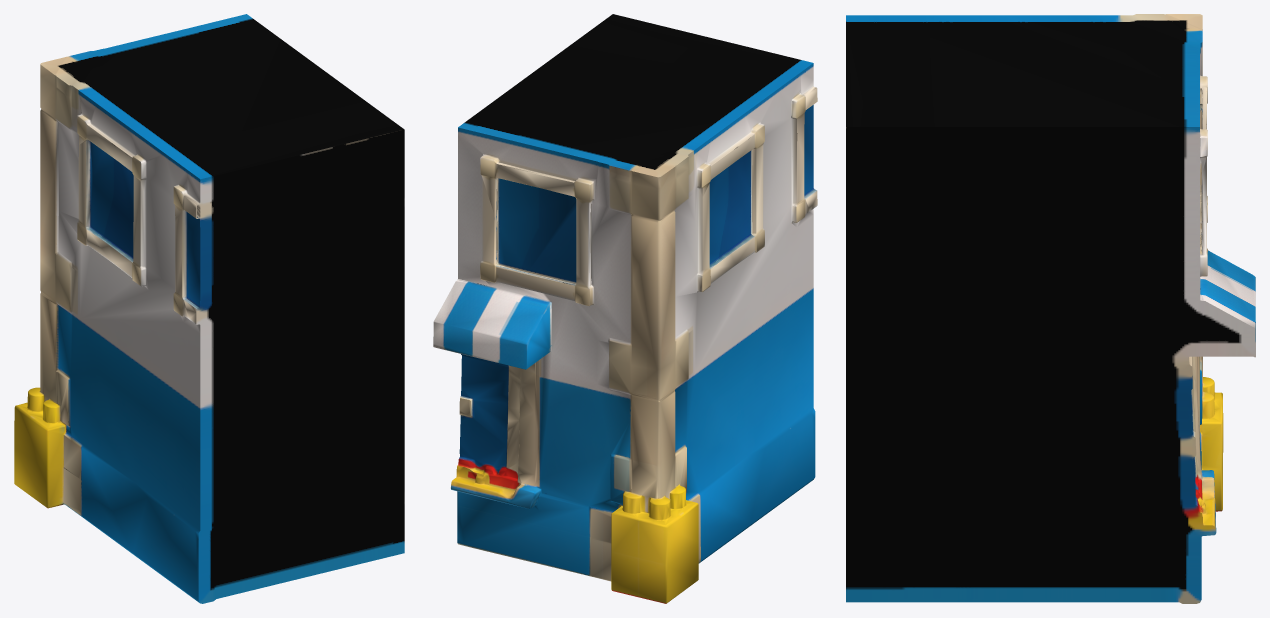
File: 3-ground-floor-back-left.fbx
3 renders of one model, left to right at view 1: azimuth 30°, elevation 25°; view 2: azimuth 150°, elevation 25°; view 3: azimuth 270°, elevation 25°, orthographic. The views are drawn at different scales.
Parts seen in each view (by area): view 1: ground-floor-back-left; view 2: ground-floor-back-left; view 3: ground-floor-back-left.
Boxes of the visible parts, x1,y1,x2,y2 form: ground-floor-back-left: (14,14,404,603); ground-floor-back-left: (433,14,817,603); ground-floor-back-left: (846,14,1255,603).
Bounding box in the file's own units: 4694 × 8555 × 6662.
Materials: 1 (1 with a texture image).
